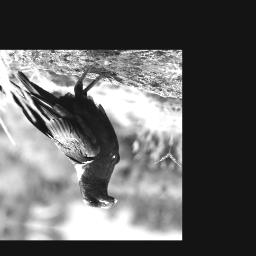Crow: (0, 53, 142, 214)
